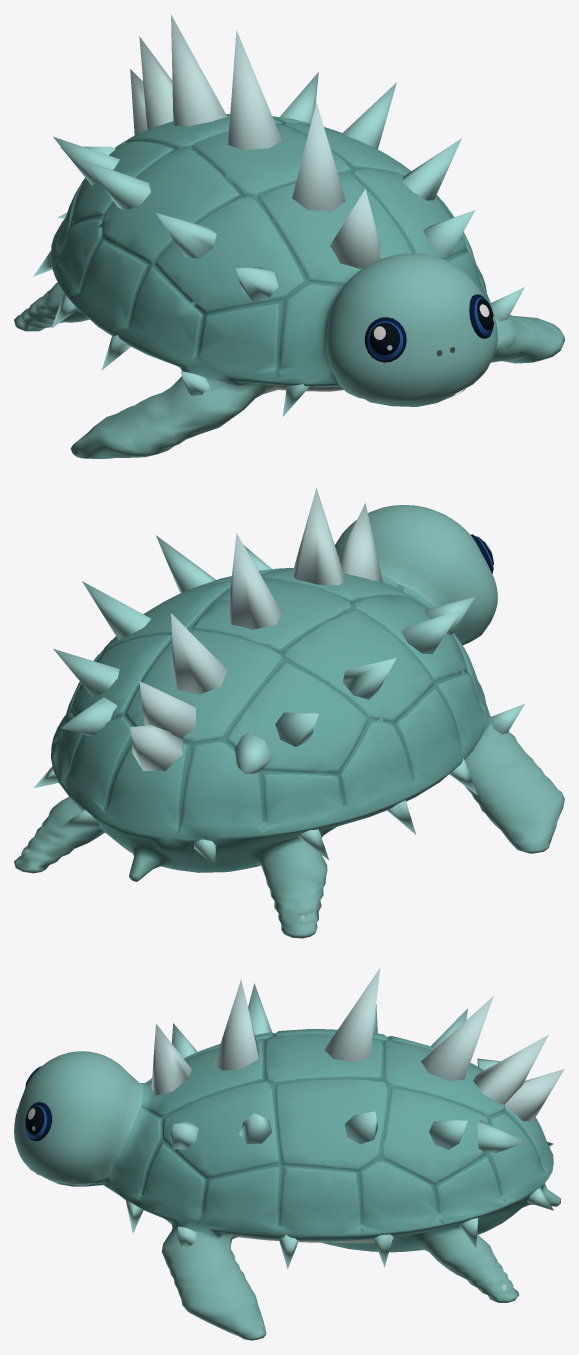
The model's file is tidemok.glb.
3 views of the same model, one above another, from view 1: azimuth 30°, elevation 25°; view 2: azimuth 150°, elevation 25°; view 3: azimuth 270°, elevation 25° (orthographic). The views are drawn at different scales.
Visible parts, largest first — view 1: body, aura, eyes; view 2: body, aura; view 3: body, aura, eyes.
Boxes of the visible parts, x1,y1,x2,y2 form: body: [14, 114, 564, 458]; aura: [33, 14, 524, 416]; eyes: [364, 294, 494, 395]; body: [14, 505, 564, 938]; aura: [33, 488, 524, 866]; body: [14, 1029, 560, 1340]; aura: [125, 968, 564, 1268]; eyes: [15, 1066, 52, 1175].
Bounding box in the file's own units: 1.46 × 0.9332 × 1.69.
